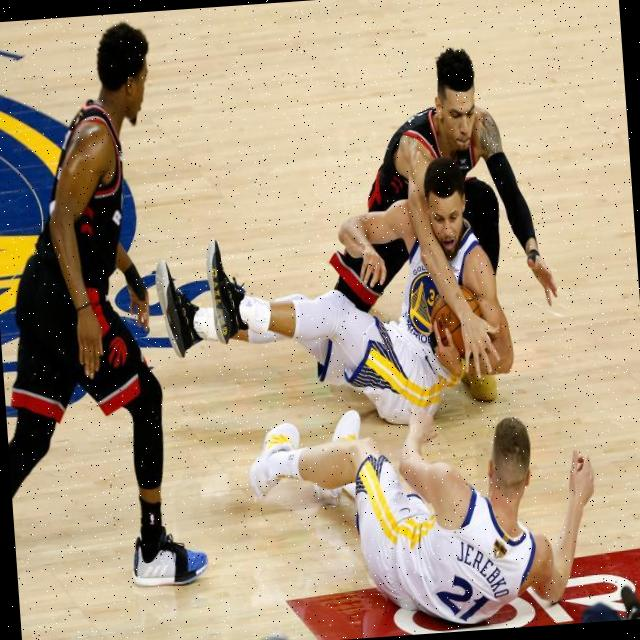ball: (426, 283, 481, 361)
